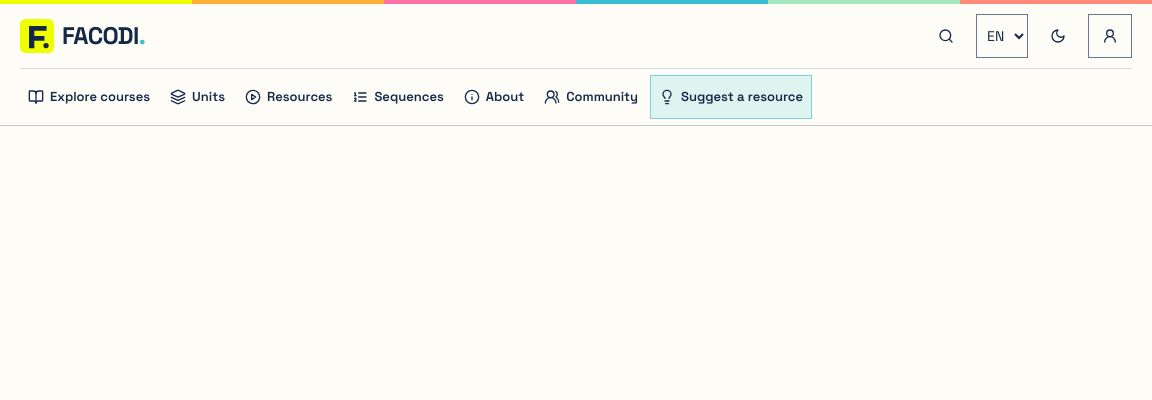
Test: SiteHeader › keeps user account actions labelled and respects editorial permissions
Later steps or results of the test are not shown.
Click the button named "Account": point(1110, 36) [1088,14,1132,58]
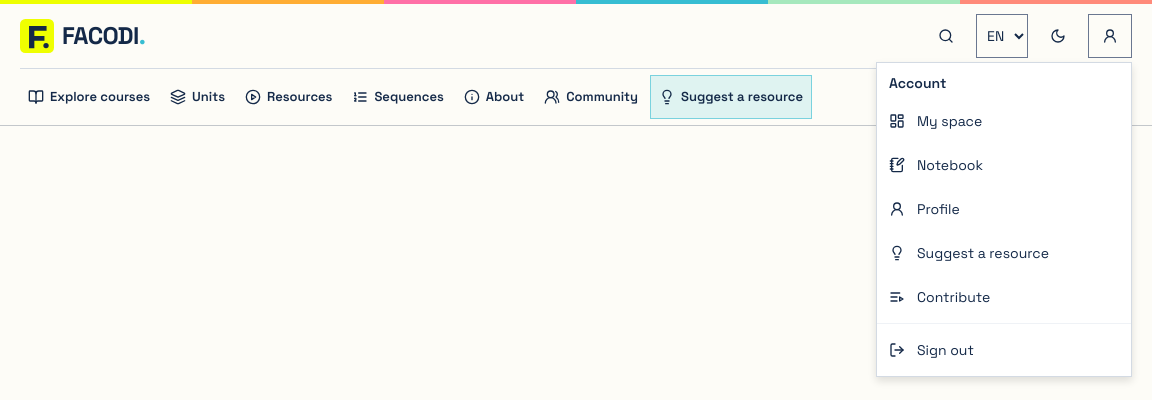
Now the menu item "My space" is shown, box [889,112,982,130]
Now the menu item "Notebook" is shown, box [889,156,983,174]
Now the menu item "Profile" is shown, box [889,200,960,218]
